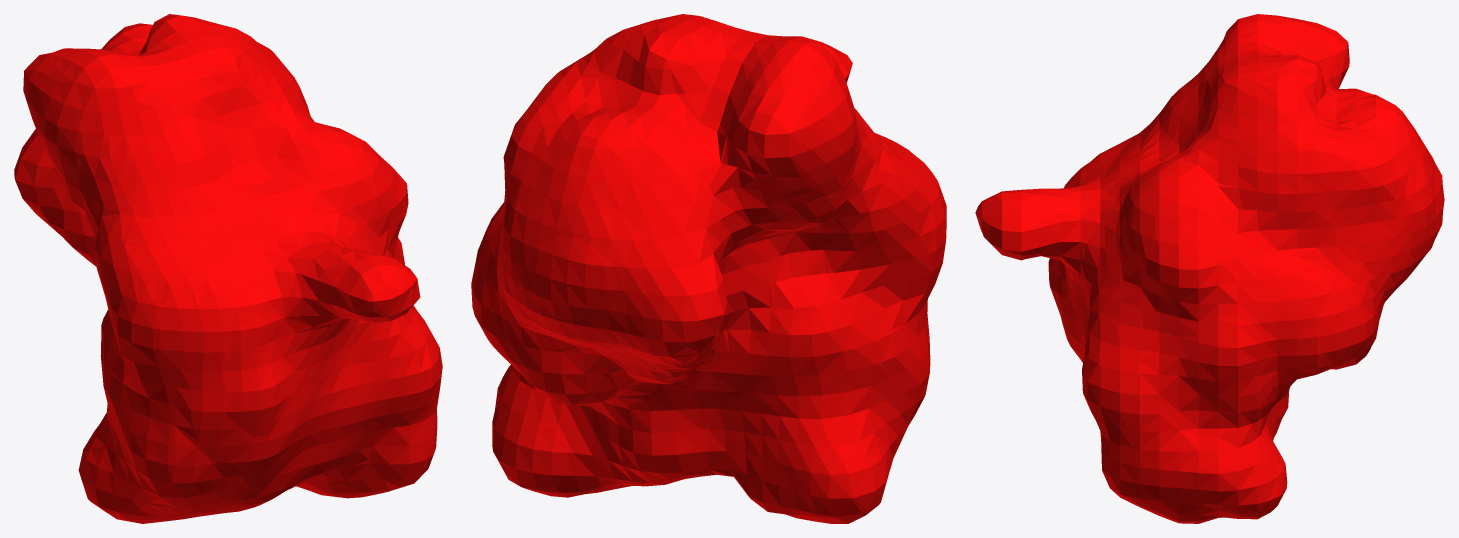
File: fhuC_coarse.dae
3 renders of one model, left to right at view 1: azimuth 30°, elevation 25°; view 2: azimuth 150°, elevation 25°; view 3: azimuth 270°, elevation 25°, orthographic. The views are drawn at different scales.
Visible parts, largest first — view 1: fhuC; view 2: fhuC; view 3: fhuC.
Boxes of the visible parts, left/top/right/bottom form: fhuC: left=14, top=14, right=442, bottom=523; fhuC: left=471, top=14, right=946, bottom=523; fhuC: left=975, top=14, right=1444, bottom=523.
Size of the model in its own units: 42.56 by 55.9 by 58.14.
